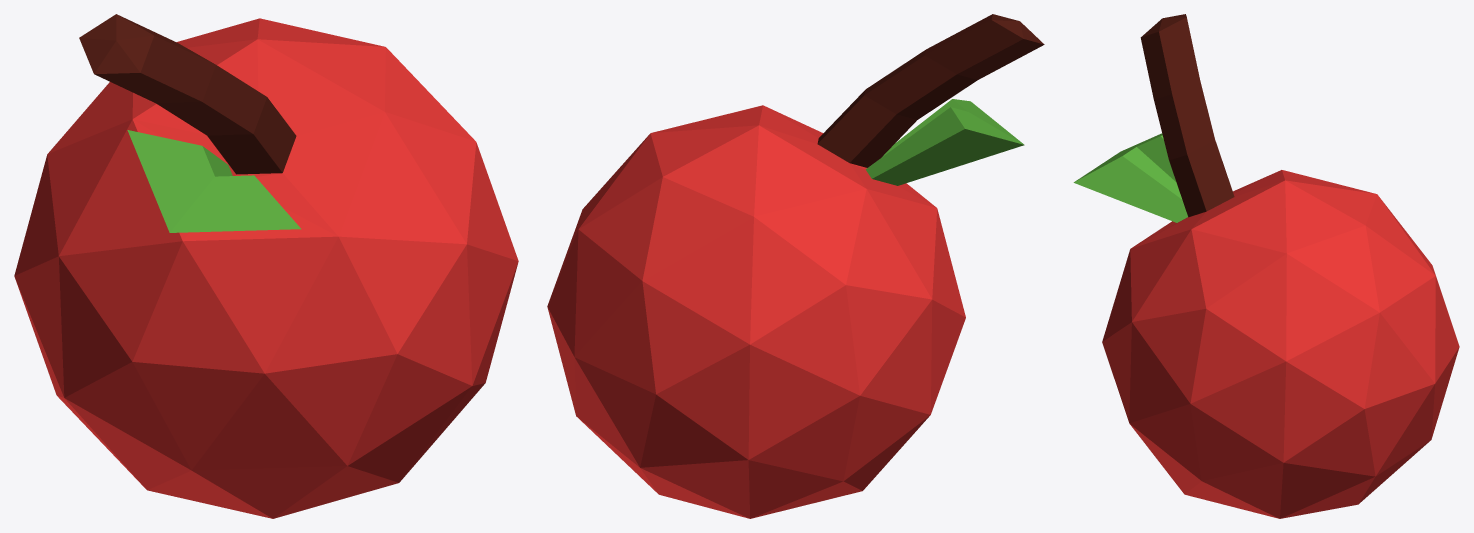
Rendered from drop_maca.fbx.
The picture shows the model from 3 angles, left to right: view 1: azimuth 30°, elevation 25°; view 2: azimuth 150°, elevation 25°; view 3: azimuth 270°, elevation 25°; orthographic projection. The views are drawn at different scales.
Visible parts, largest first — view 1: Icosphere; view 2: Icosphere; view 3: Icosphere.
Part boxes in pixels (<box>): Icosphere: <box>14,14,518,518</box>; Icosphere: <box>547,14,1044,518</box>; Icosphere: <box>1073,14,1459,518</box>.
Size of the model in its own units: 215 by 256 by 216.
